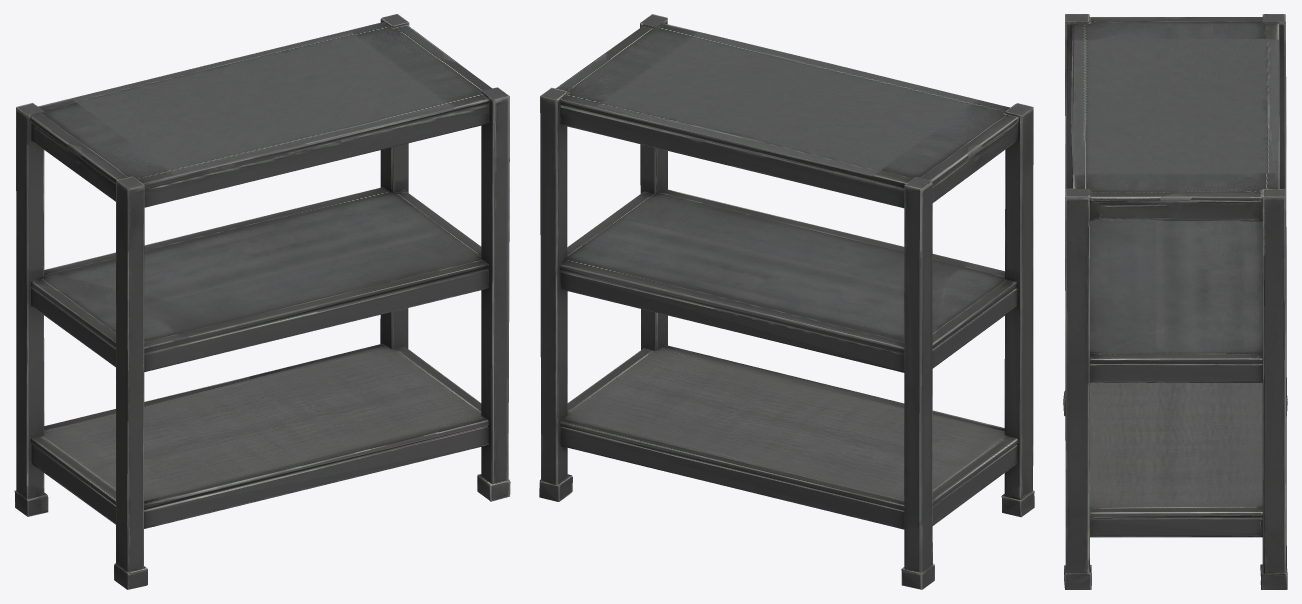
Rendered from shelf.glb.
3 renders of one model, left to right at view 1: azimuth 30°, elevation 25°; view 2: azimuth 150°, elevation 25°; view 3: azimuth 270°, elevation 25°, orthographic.
Bounding box in the file's own units: 1 × 1 × 0.5176.
1 material, 1 textured.
